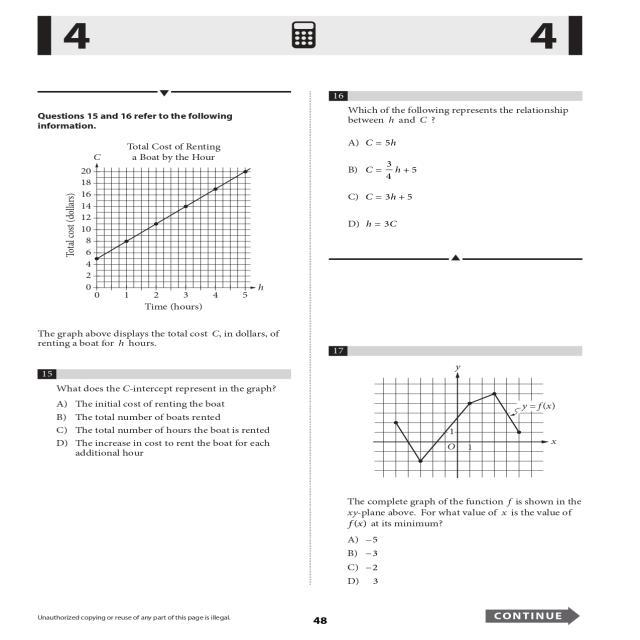Answer_Block: (318, 130, 598, 238), (26, 394, 302, 466), (318, 530, 598, 591)
Instruction: (28, 101, 301, 352)
Question_Answer_Block: (318, 342, 598, 590), (318, 85, 598, 248), (26, 364, 302, 488)
Question_Block: (317, 341, 597, 529), (318, 86, 598, 130), (27, 364, 304, 394)
Question_Paper_Area: (318, 86, 598, 591), (28, 85, 303, 589)
